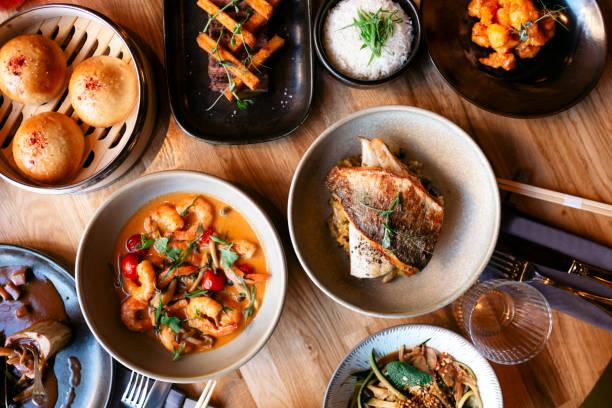Braised Crucian Carp: (288, 103, 497, 318), (77, 170, 286, 382), (2, 3, 162, 195), (423, 0, 608, 120), (166, 0, 317, 142), (326, 319, 507, 408)
